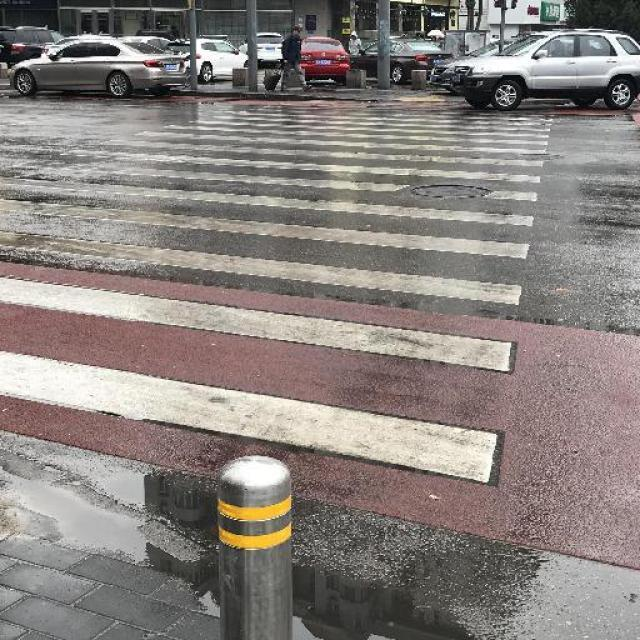intact_crosswalk: (0, 98, 555, 485)
